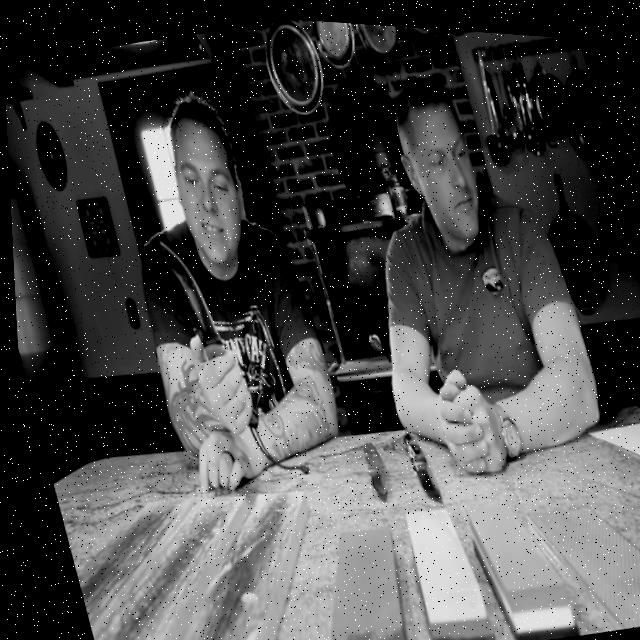knife: (150, 225, 225, 360), (383, 392, 445, 507), (349, 422, 389, 499)
